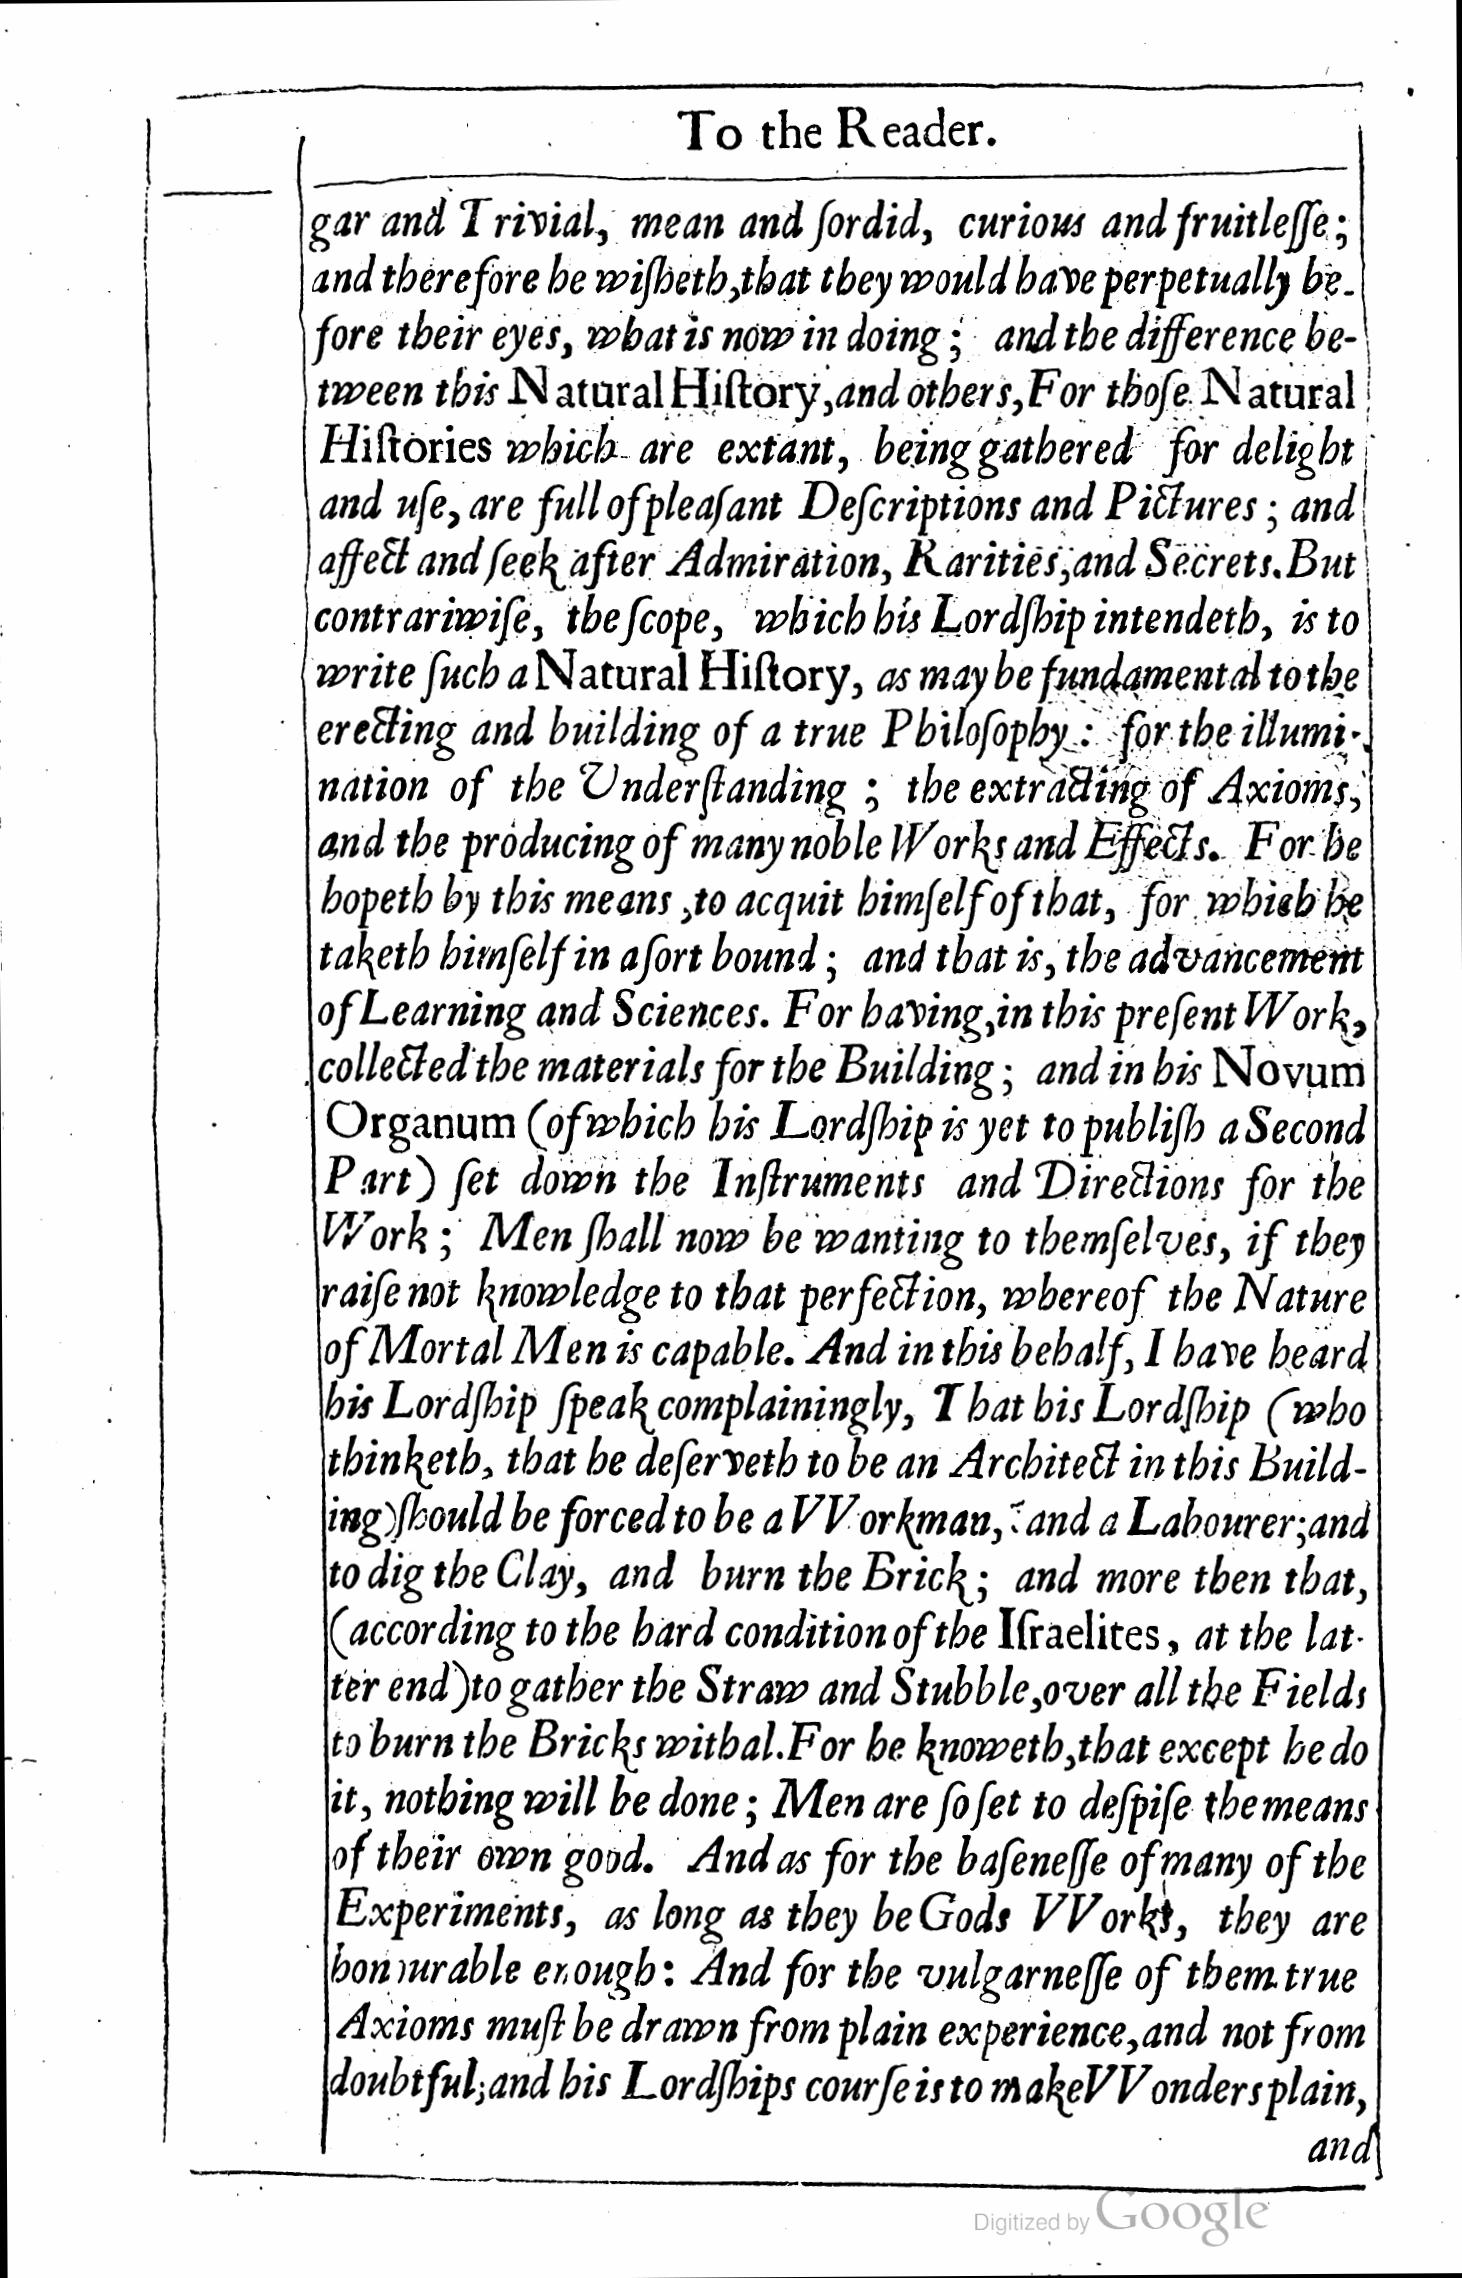catchword: (1303, 2127, 1381, 2167)
header: (670, 100, 1007, 163)
top_p: (310, 193, 1374, 2124)
